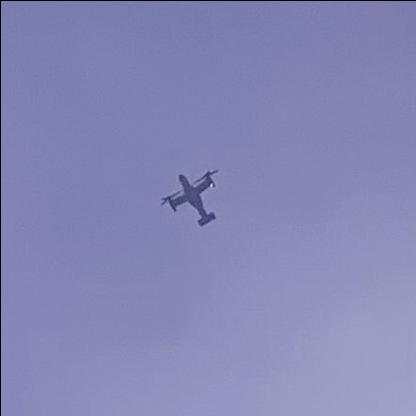Tornado: (158, 168, 218, 228)
